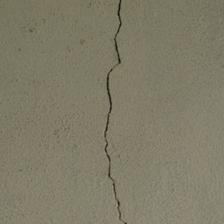Crack: (50, 2, 78, 221)
